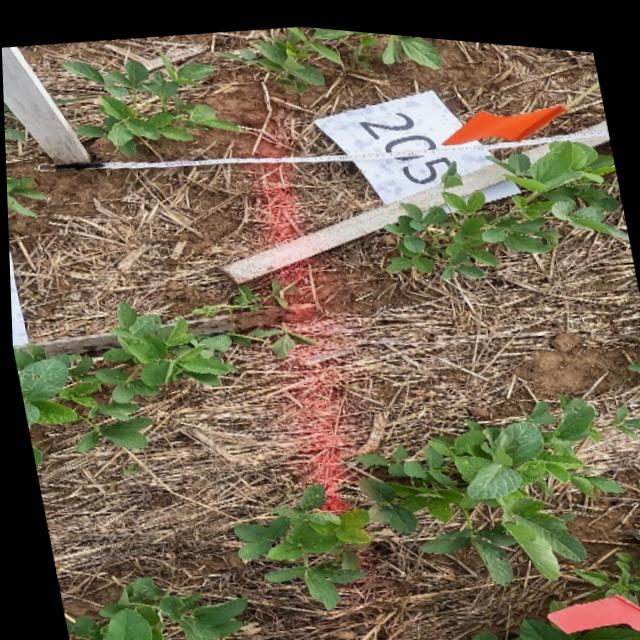soy_plant: (231, 388, 615, 602), (12, 300, 247, 449), (385, 131, 627, 270), (62, 575, 240, 640), (514, 609, 640, 640), (572, 540, 640, 595), (5, 174, 43, 215), (607, 397, 640, 423)
